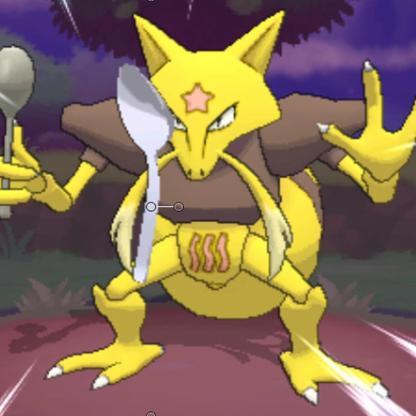Kadabra: (1, 12, 416, 406)
